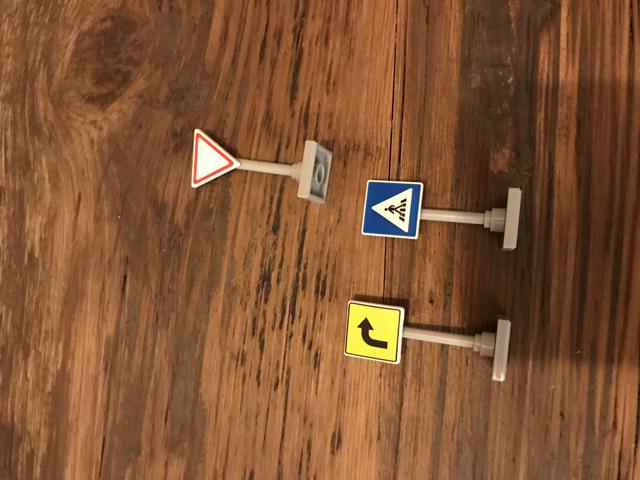fahrtrichtung rechts: (343, 298, 404, 365)
fußgängerüberweg: (360, 177, 426, 242)
vorfahrt gewähren: (187, 129, 243, 187)
